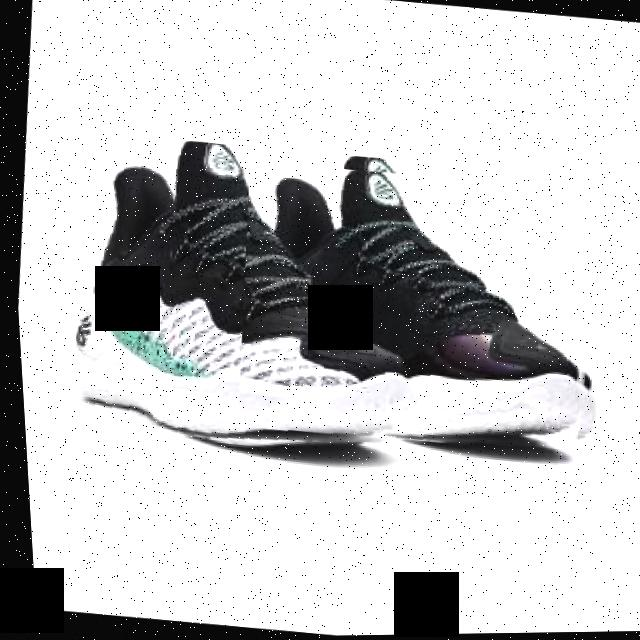shoe: (52, 128, 443, 471), (220, 157, 616, 465)
